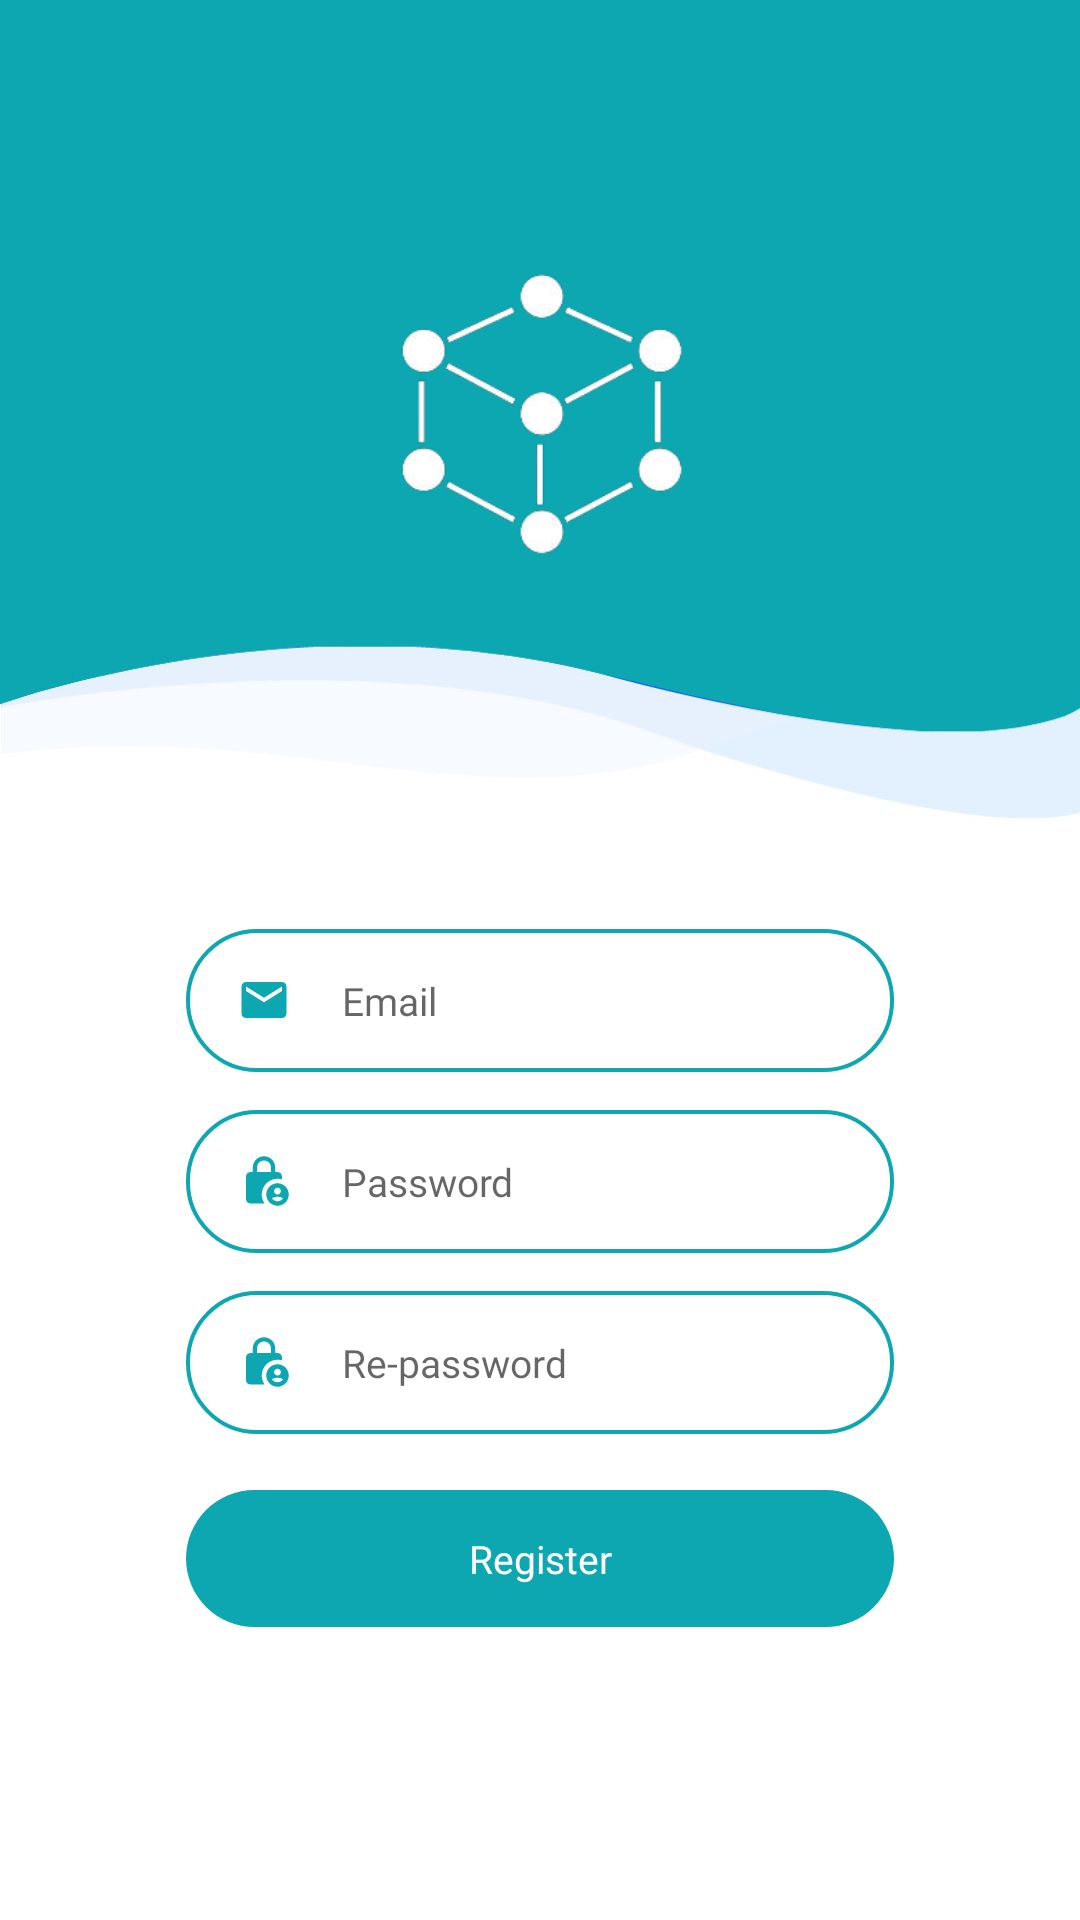

Point at icon controls on the screen. Image size 1080px×1920px, points as (x=x, y=y).
lock person: (x=267, y=1181), (x=267, y=1362)
